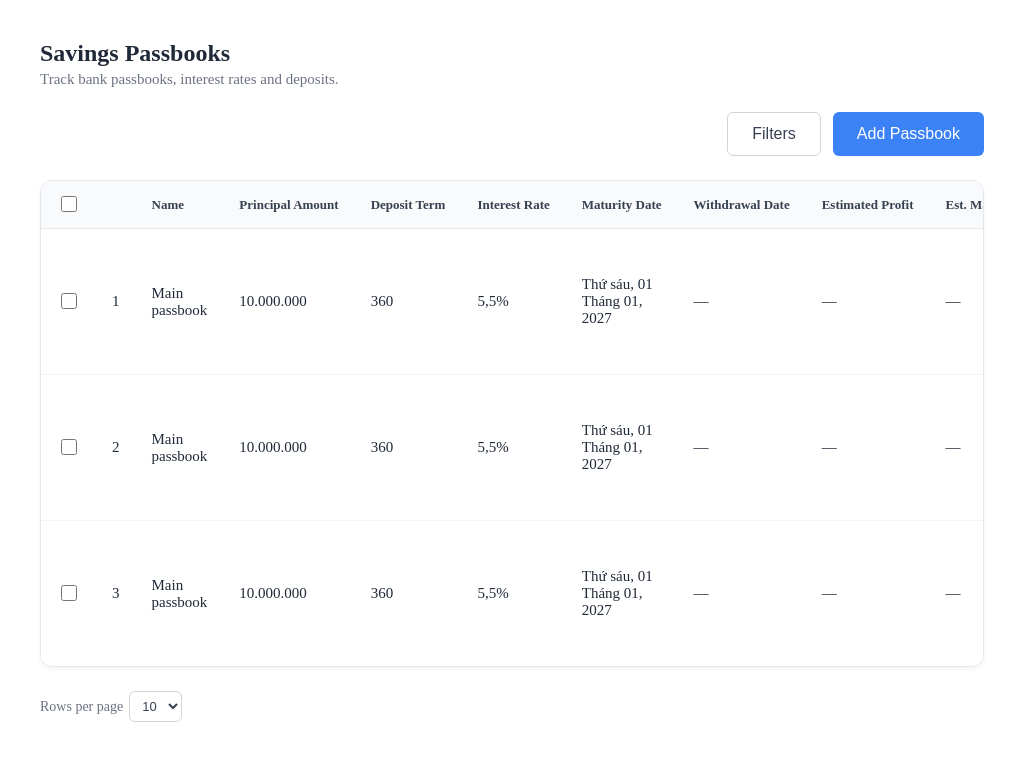
it: SavingsPassbooks › bulk-deletes the selection after confirmation and clears it
Click the checkbox named "Select row 1". click: (69, 301)
box: [61,293,77,309]
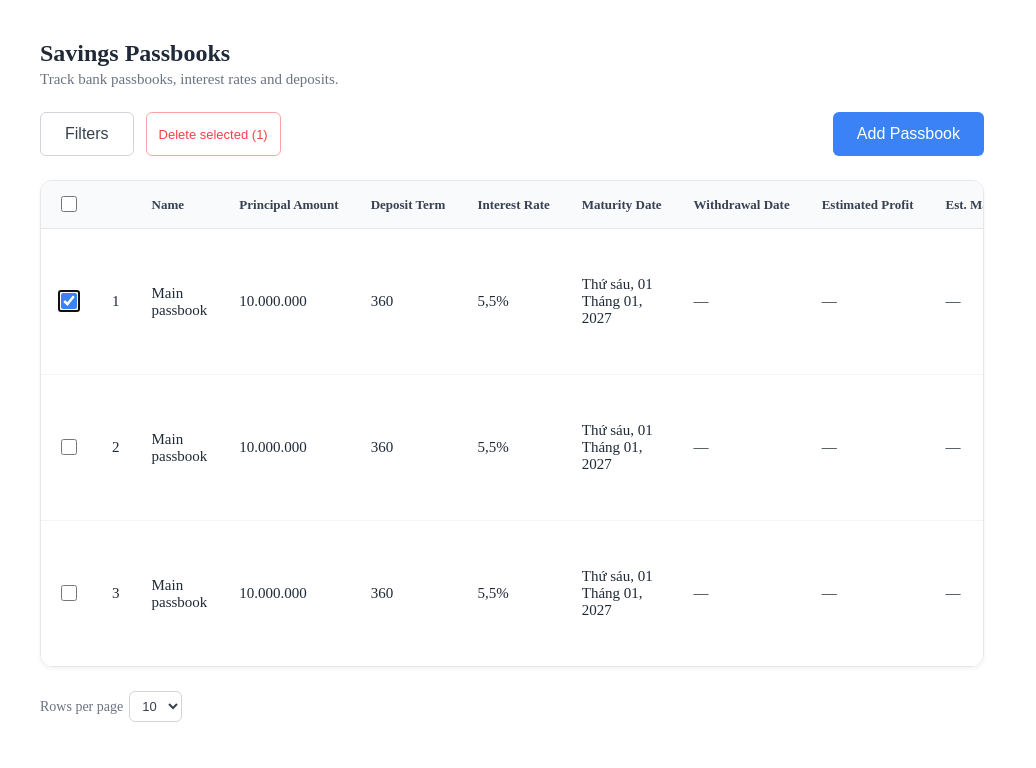
Click the checkbox named "Select row 3". click: (69, 593)
box: [61,585,77,601]
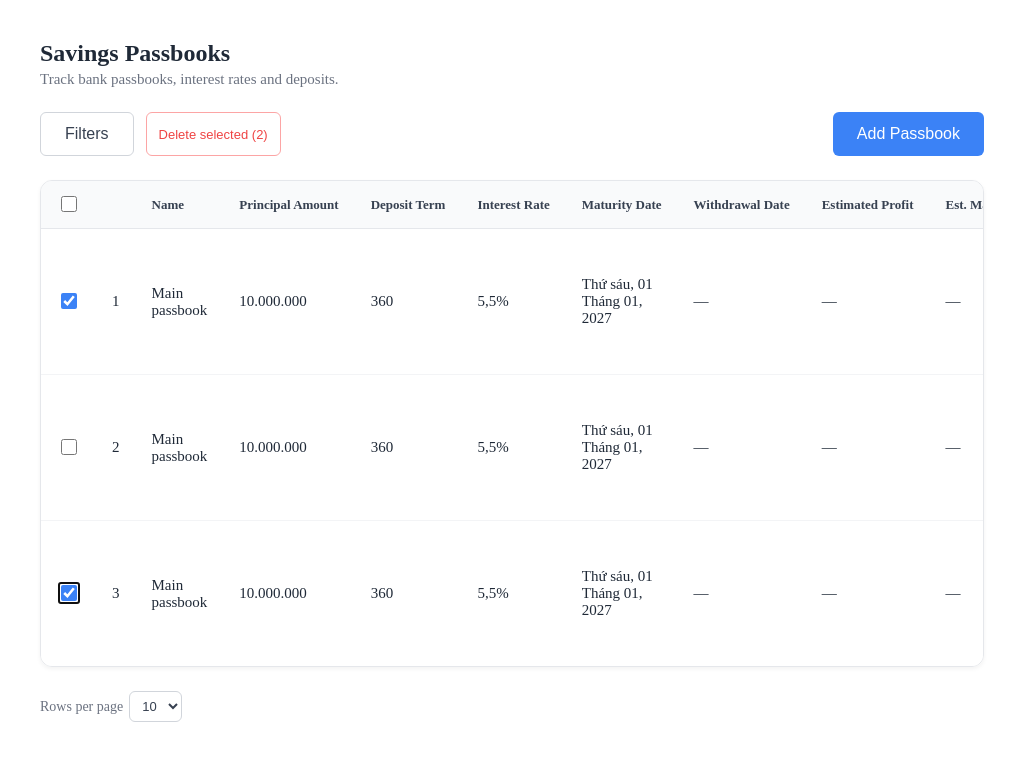
Expected: the checkbox named "Select all rows on this page" is not checked, [61,196,77,212]
Expected: the button "Delete selected (2)" is shown
Click the button "Delete selected (2)". click: (213, 134)
box: [146,112,281,156]
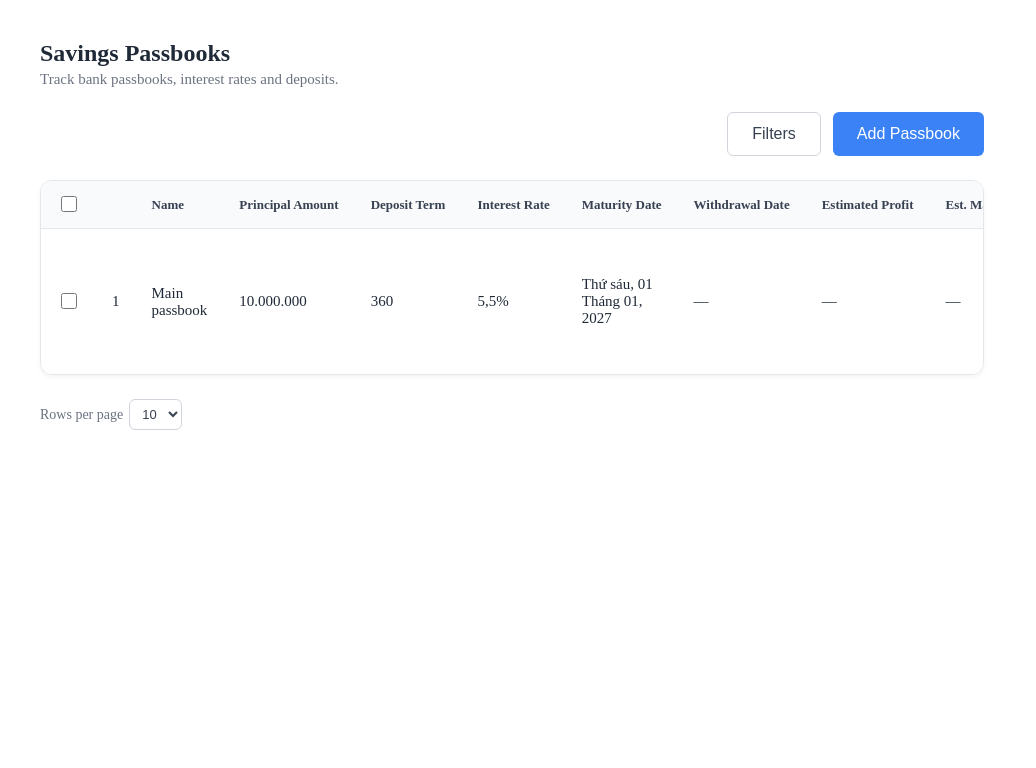
Expected: the text "Main passbook" is shown once, [136,228,223,374]
Expected: the button "Delete selected (2)" is gone
